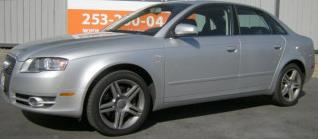front_view: (1, 45, 71, 116)
headlight: (18, 52, 71, 78)
side_glass: (165, 2, 288, 37)
